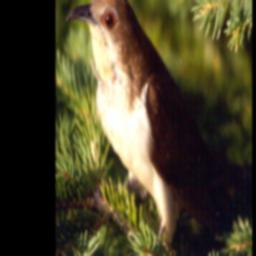Cuckoo: (65, 0, 244, 249)
